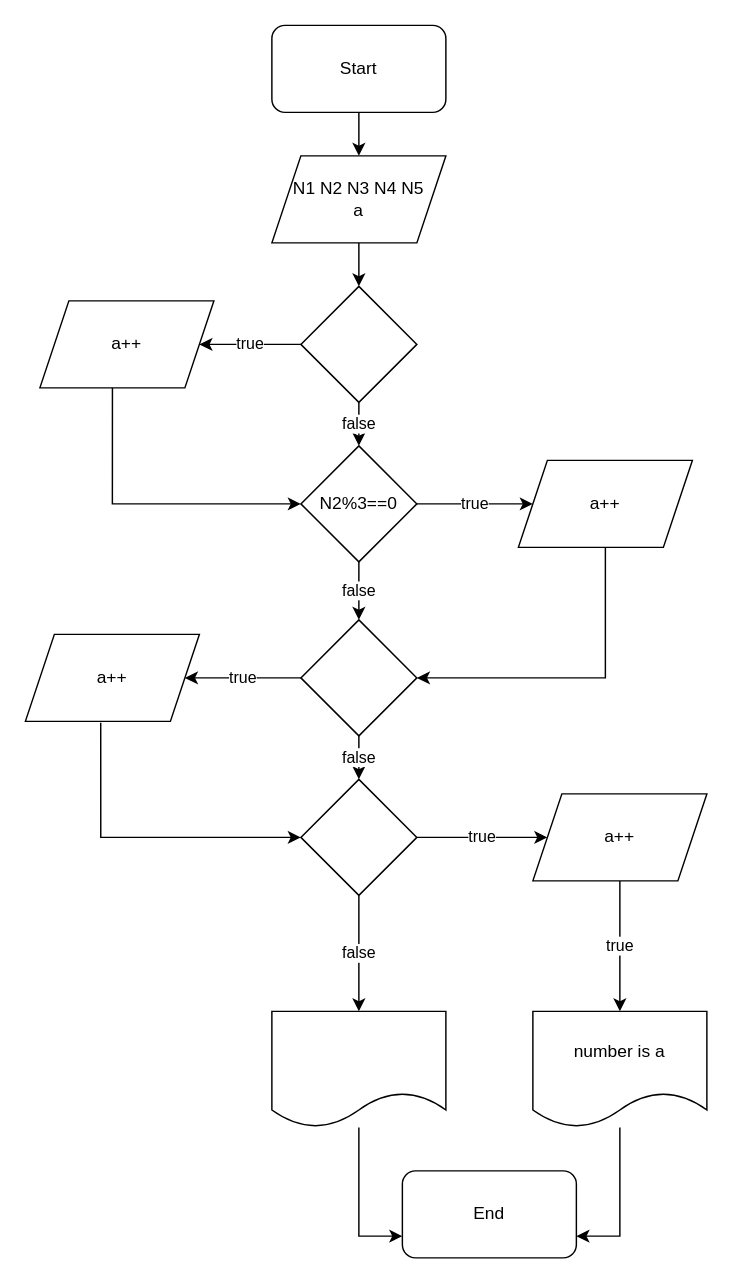
Image size: 732x1283. Some labels were removed from this diagram. Each missing label, with the centre of its shape:
"N1%3==0" belongs at point 358,343.
"N3%3==0" belongs at point 358,677.
"N4%3==0" belongs at point 358,836.
"number is zero" belongs at point 358,1068.
